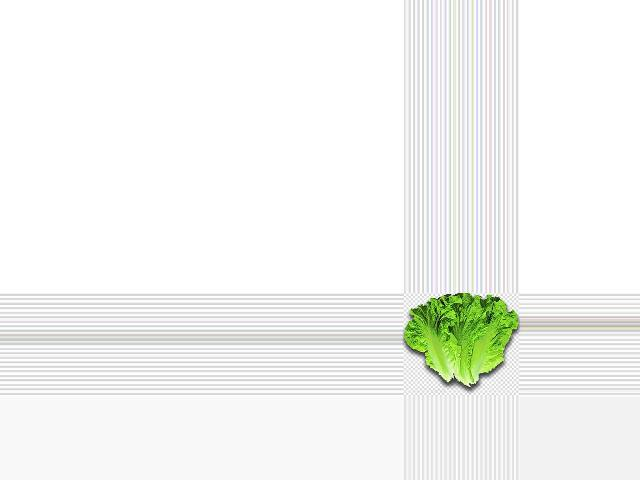lettuce: (401, 293, 516, 389)
